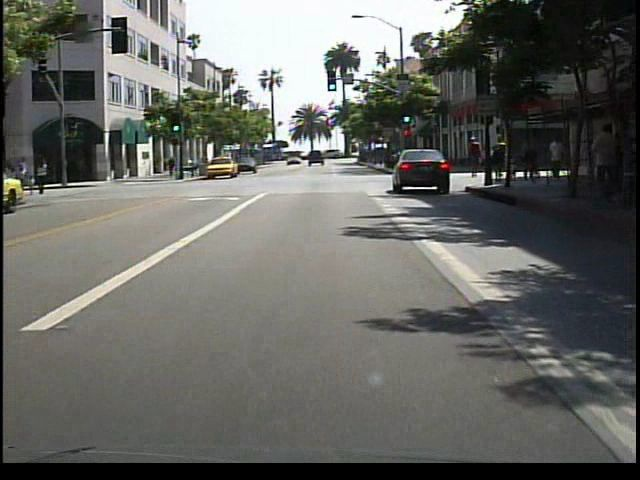person: (466, 136, 485, 185), (35, 159, 56, 200)
